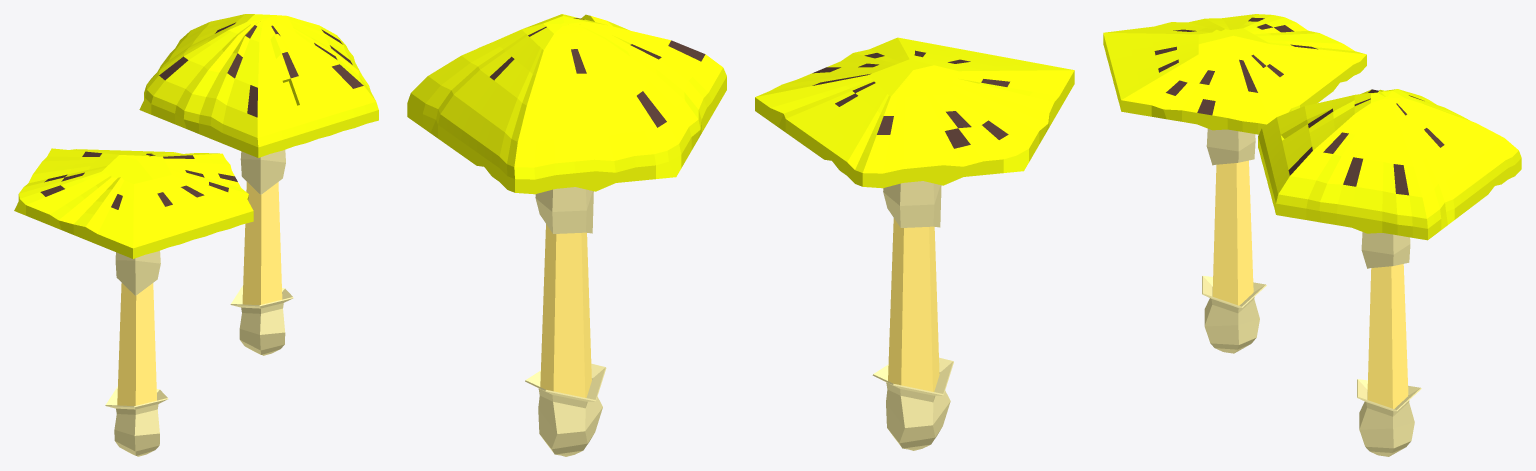
Rendered from deathCap.fbx.
3 views of the same model, side by side, from view 1: azimuth 30°, elevation 25°; view 2: azimuth 150°, elevation 25°; view 3: azimuth 270°, elevation 25° (orthographic). The views are drawn at different scales.
Visible parts, largest first — view 1: deathcap, deathcap.001; view 2: deathcap, deathcap.001; view 3: deathcap, deathcap.001.
Boxes of the visible parts, left/top/right/bottom form: deathcap: left=139, top=14, right=378, bottom=355; deathcap.001: left=14, top=148, right=253, bottom=456; deathcap: left=407, top=14, right=726, bottom=456; deathcap.001: left=755, top=37, right=1074, bottom=450; deathcap: left=1258, top=89, right=1521, bottom=456; deathcap.001: left=1103, top=14, right=1366, bottom=353.
Size of the model in its own units: 1151 by 908 by 958.
